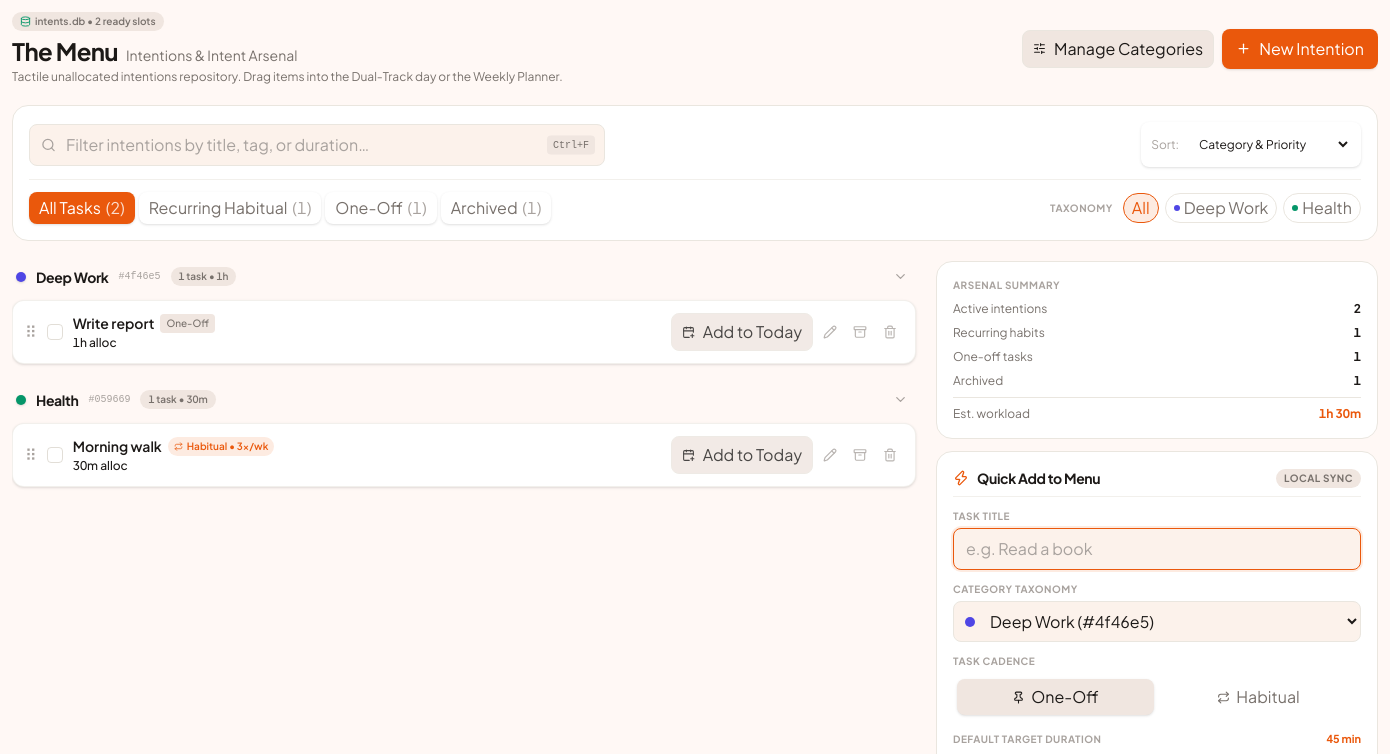
it: IntentionsPage › filters by cadence, search text, and category taxonomy
Click the button "Recurring Habitual (1)" at (230, 208), box [139, 192, 321, 224]
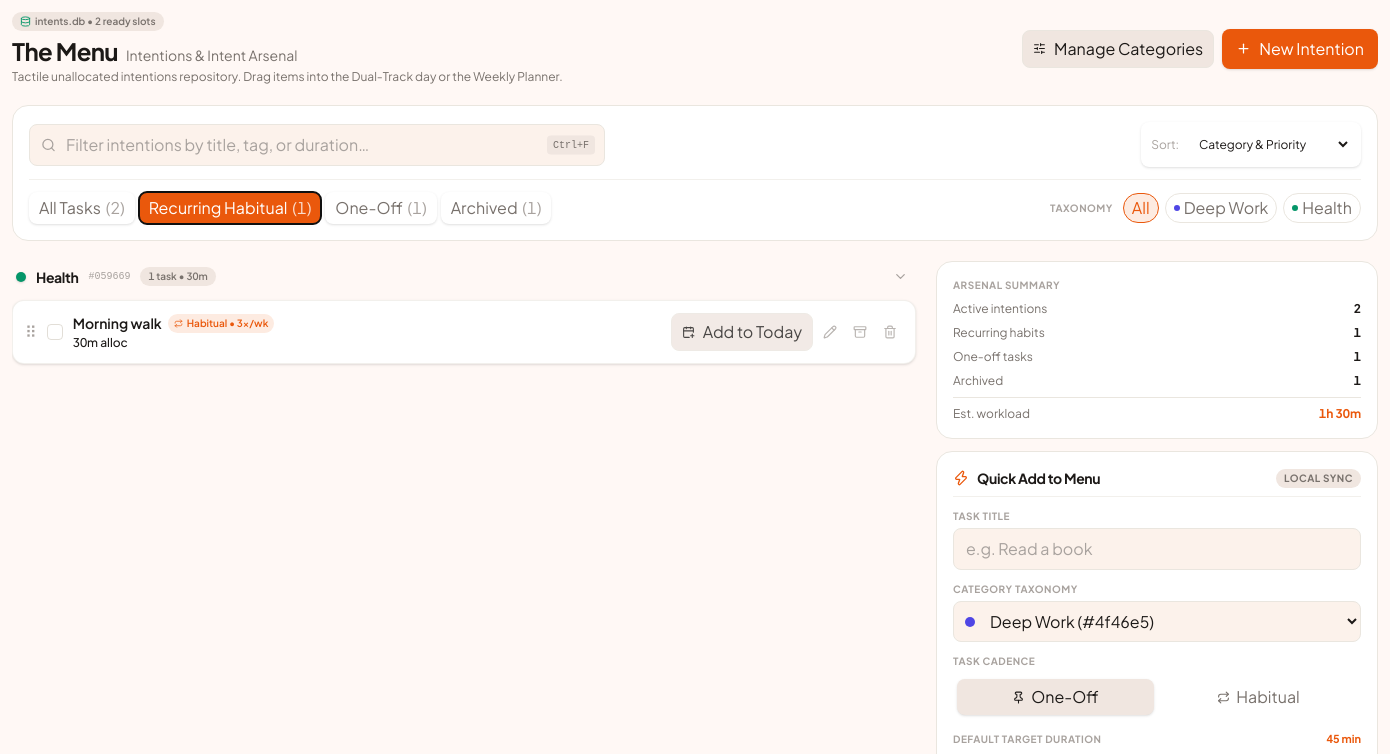
Expected: the text "Morning walk" is shown, [73, 313, 162, 333]
Expected: the text "Write report" is gone
Click the button "All Tasks (2)" at (82, 208), box [29, 192, 135, 224]
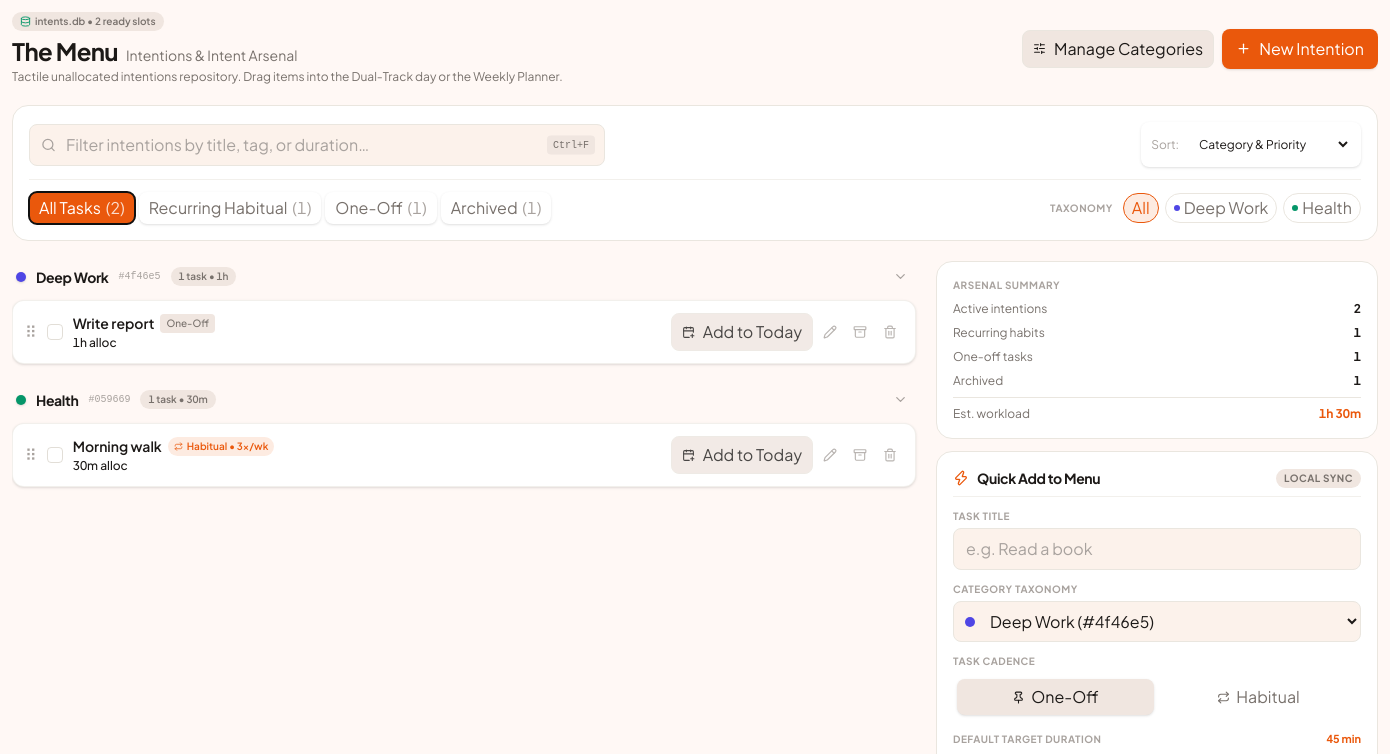
Type "report" into the field with placeholder "Filter intentions by title, tag, or duration…" at (317, 144), box [29, 124, 605, 166]
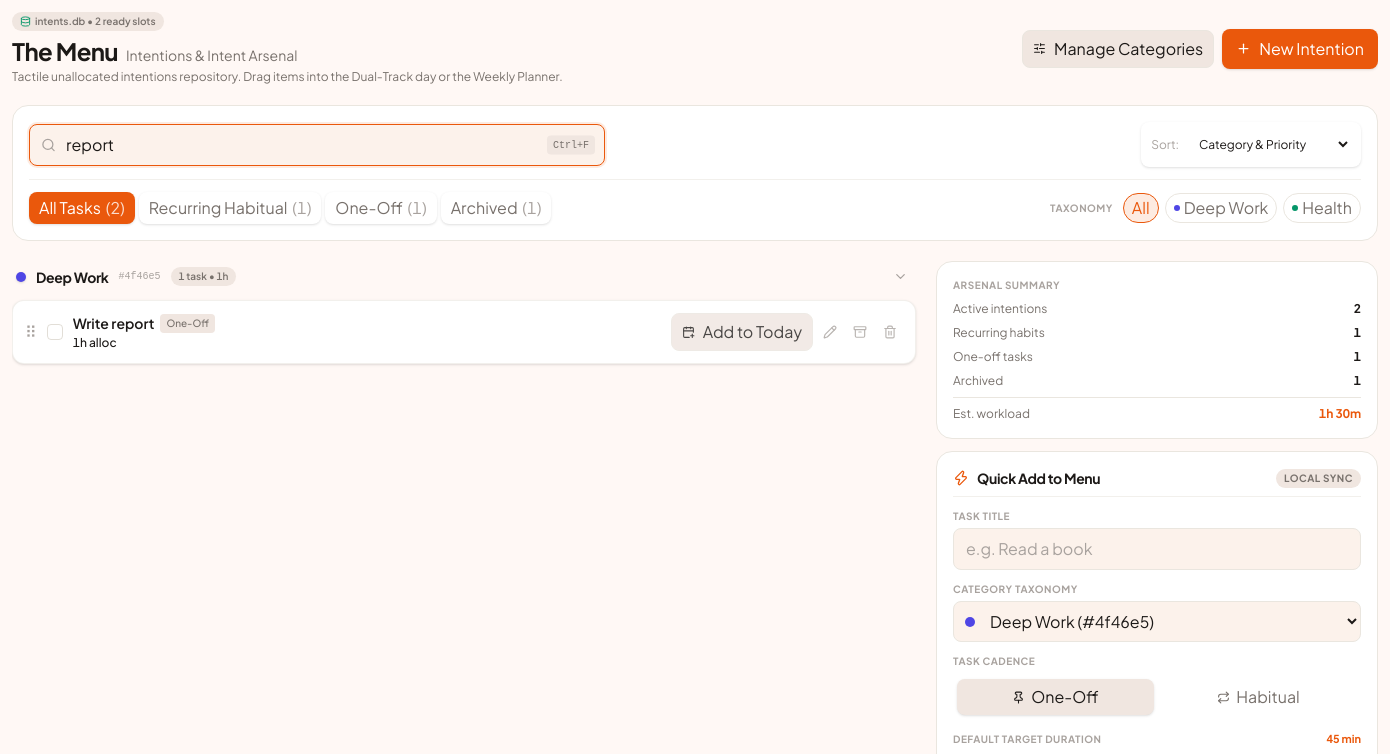
Expected: the text "Write report" is shown, [73, 313, 154, 333]
Expected: the text "Morning walk" is gone
Clear the field with placeholder "Filter intentions by title, tag, or duration…" at (317, 144), box [29, 124, 605, 166]
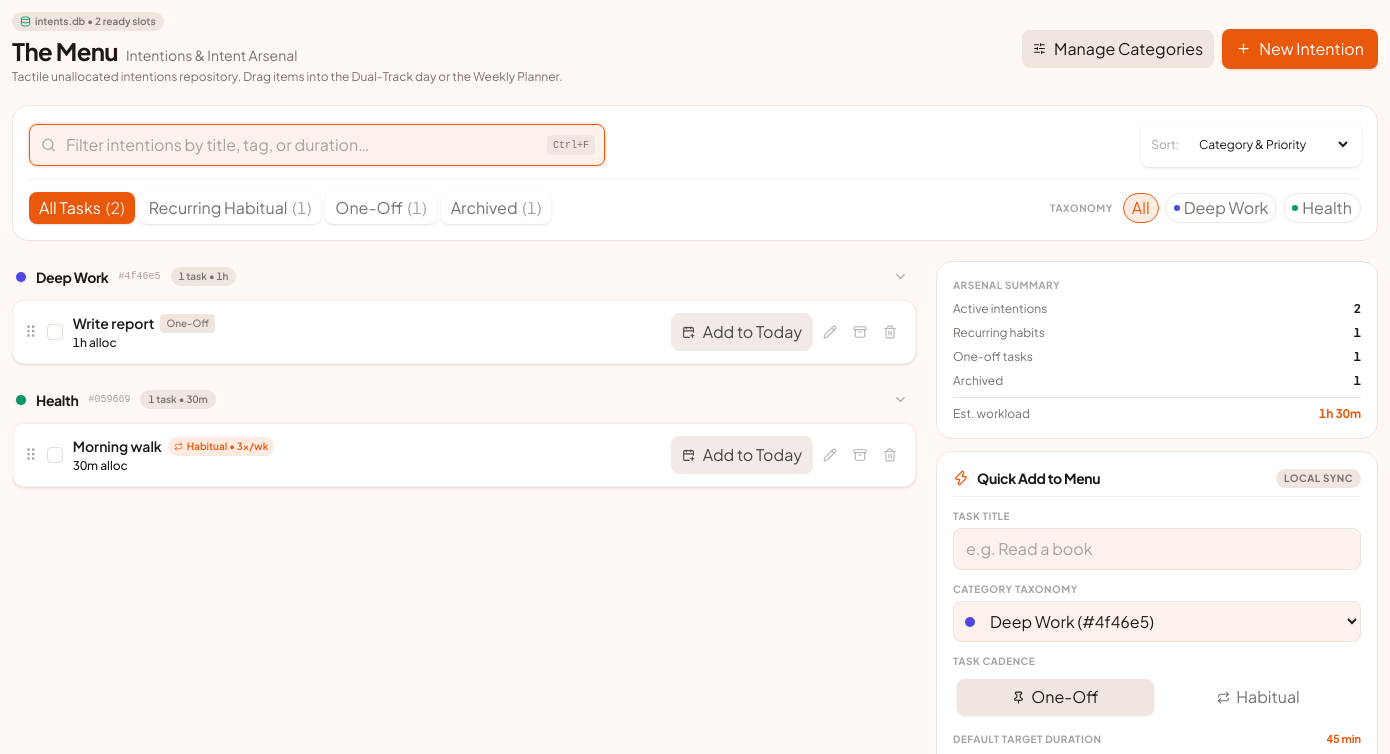
Click the button "Health" at (1322, 208), box [1283, 193, 1361, 223]
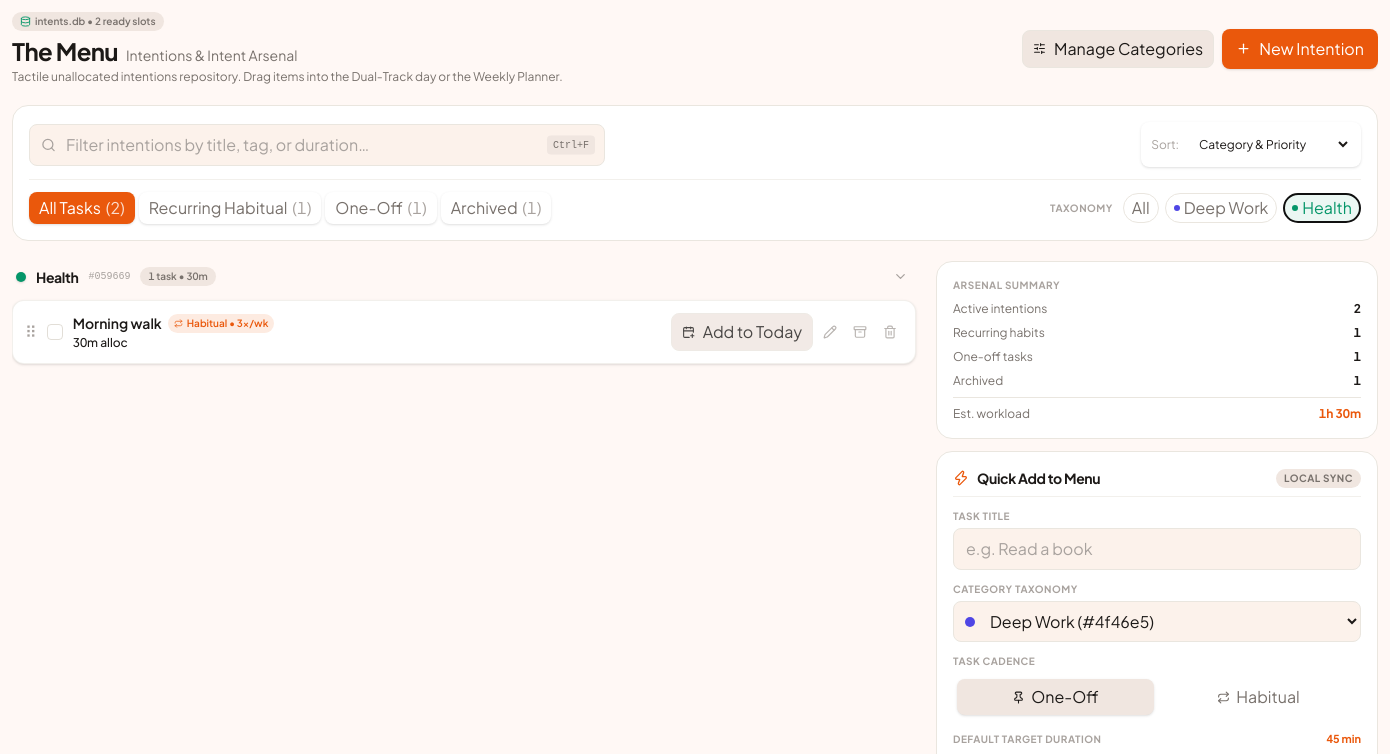
Expected: the text "Morning walk" is shown, [73, 313, 162, 333]
Expected: the text "Write report" is gone
